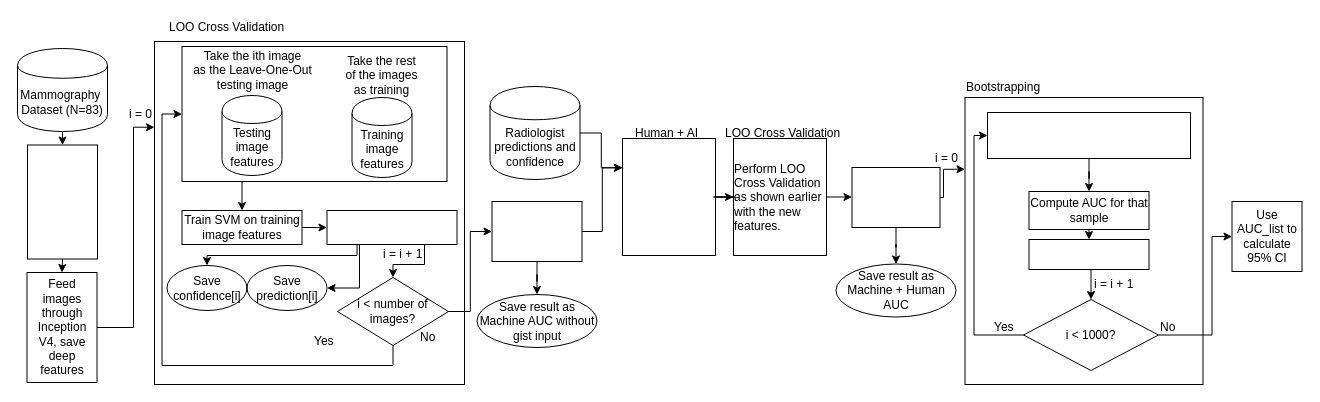
The diagram is 1320 pixels wide and 402 high, and some of its shapes have lost their labels. The centre of each missing label's shape, as x and y in pixels:
Add AUC to AUC_list: pixel 1088 254
Compute AUC of new predictions: pixel 895 197
Compute AUC of predictions: pixel 536 231
For each image feature set, append radiologist prediction and confidence score.: pixel 669 197
Mirror all right breast images so that the whole dataset faces the same way: pixel 62 201
Predict normal/cancer for test image features: pixel 391 227
Sample N predictions from saved predictions with replacement: pixel 1088 135
